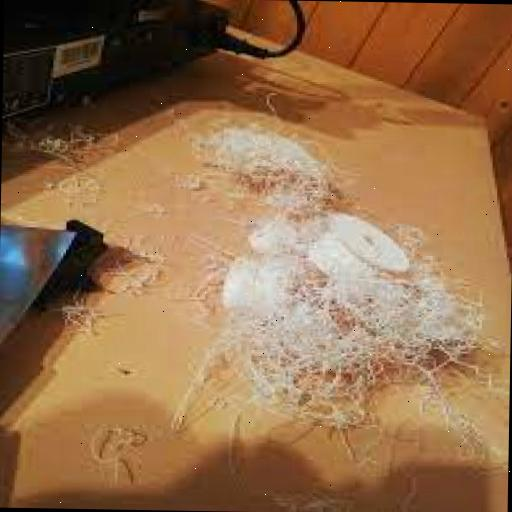spaghetti: (168, 105, 476, 429), (27, 119, 115, 207), (91, 412, 154, 483), (96, 242, 148, 314)
